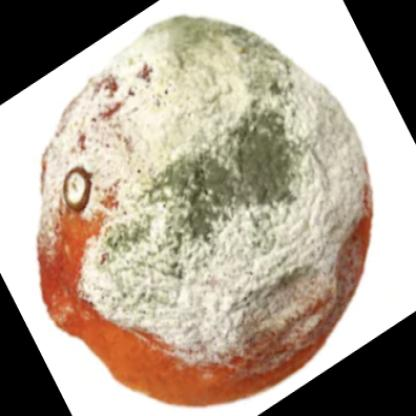rotten: (40, 13, 372, 407)
